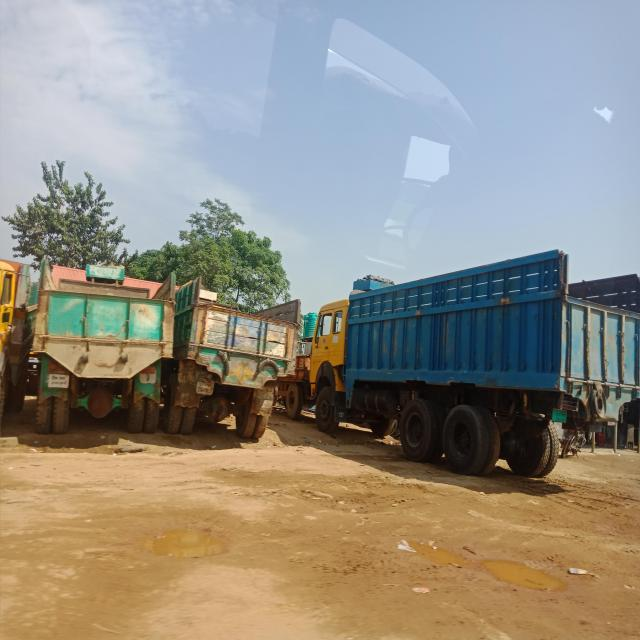truck: (307, 251, 640, 479), (27, 255, 175, 456), (174, 270, 301, 450)
